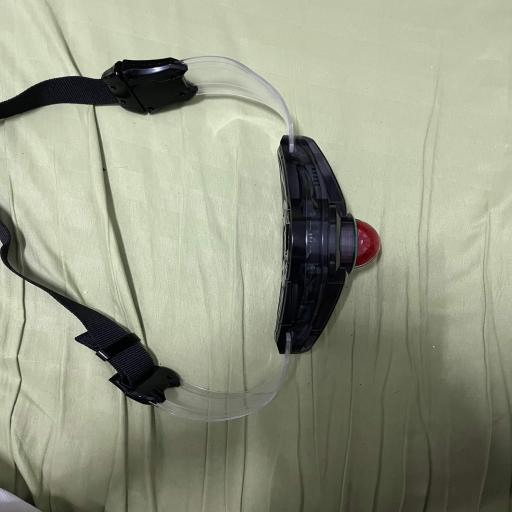zeztzdriver: (0, 221, 179, 404), (274, 135, 358, 354), (150, 345, 290, 422), (183, 56, 293, 136), (102, 58, 198, 113), (0, 76, 118, 119), (355, 220, 380, 268)
